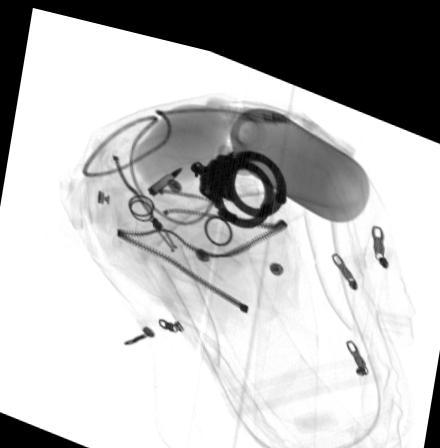Bullet: (146, 158, 182, 189)
HandCuffs: (189, 136, 287, 215)
